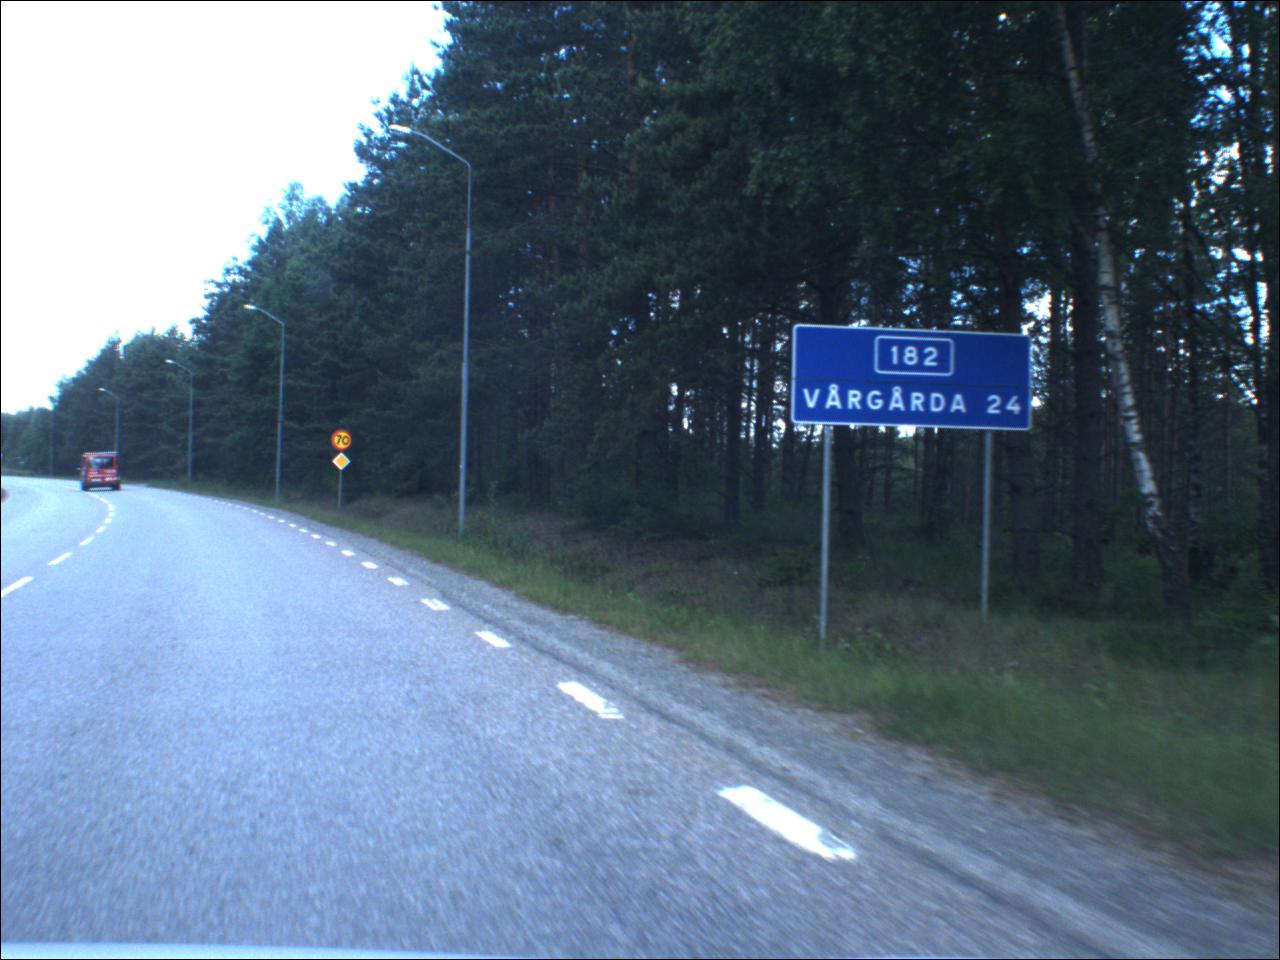70_SIGN: (331, 431, 357, 455)
PRIORITY_ROAD: (330, 454, 356, 476)
